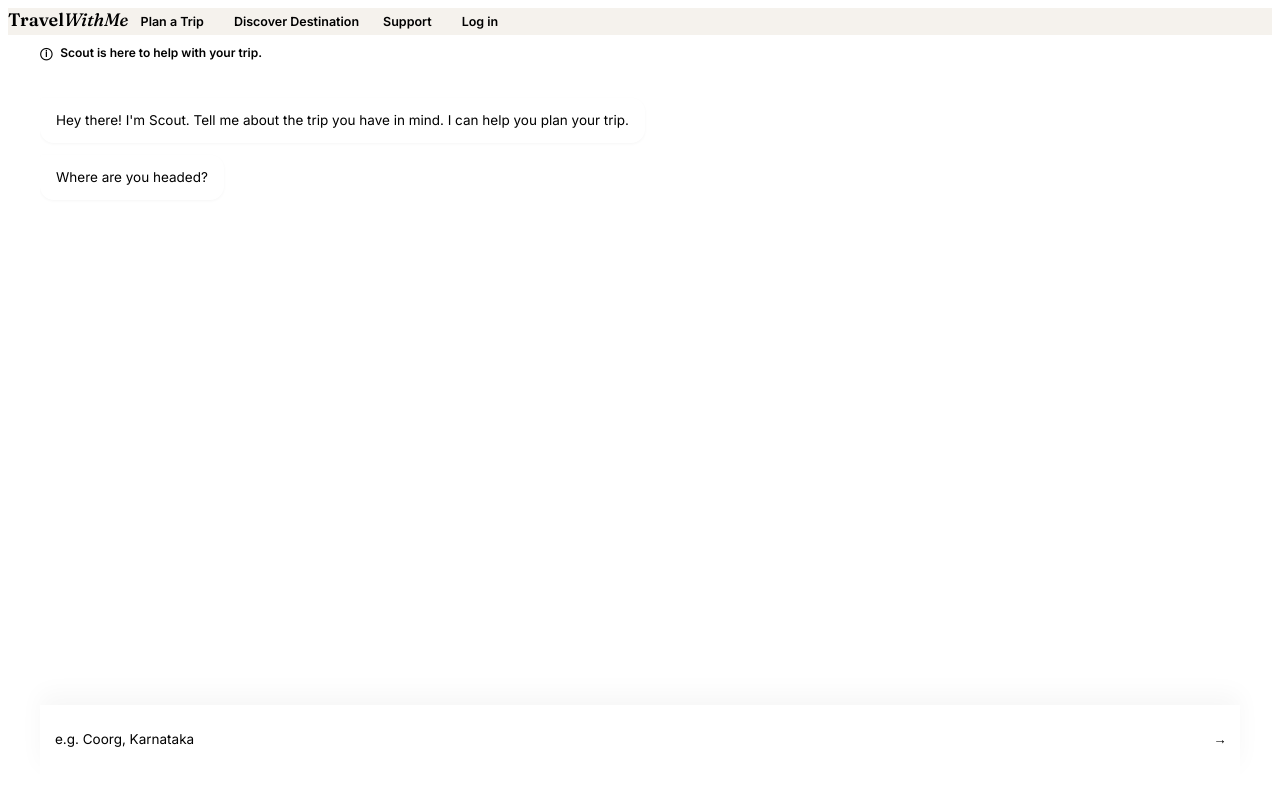
App guest-first routing (TWM-140) › Known Destination entry against real trip commands › sends entry_intent="known_destination" with the raw message and, once Guide generates places and a day plan together, hands off into the unified Dashboard shell
The image size is (1280, 800).
Type "Coorg" into the field with placeholder "e.g. Coorg, Karnataka" at (616, 739), box [40,719,1192,759]
Then press Enter
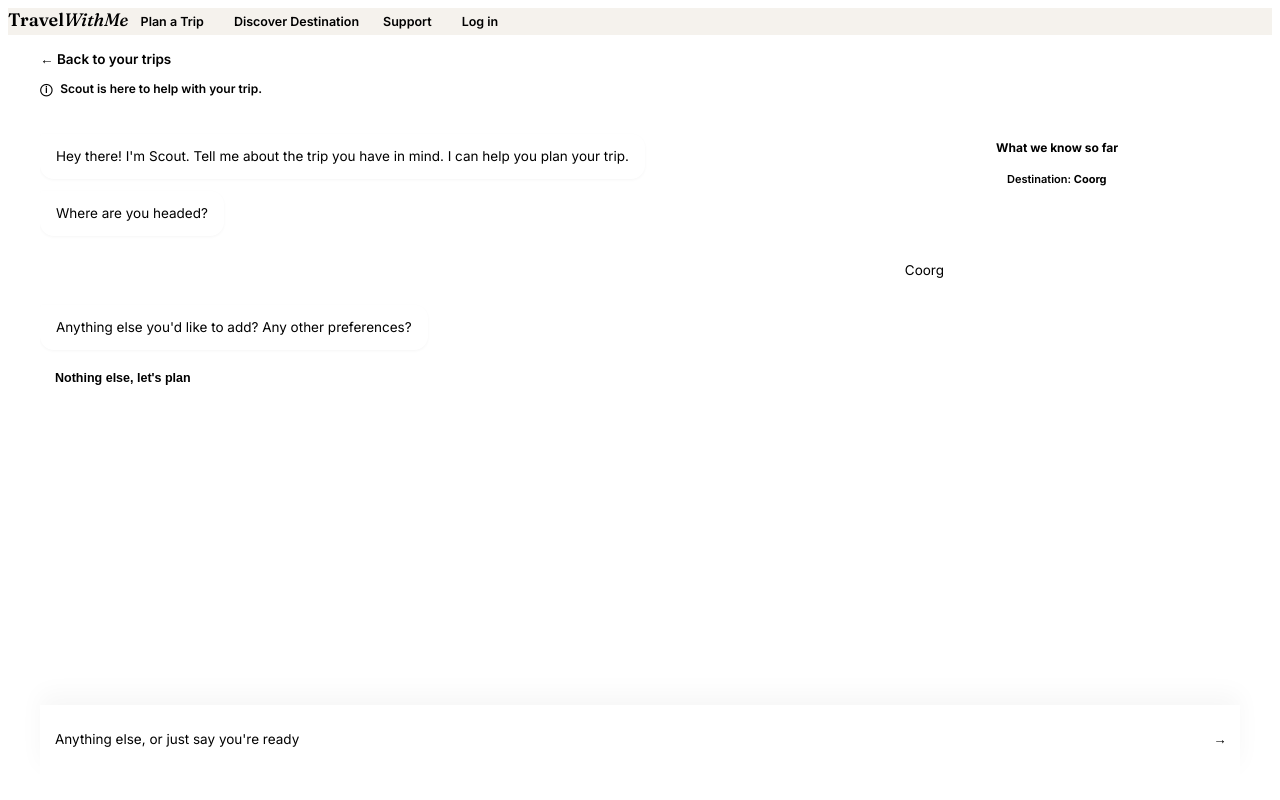
Check: the text "Anything else you'd like to add? Any other preferences?" is shown, box [40,305,428,350]
Check: the 2nd text "Coorg" is shown, box [905,262,944,278]
Type "Nothing else" into the field with placeholder "Anything else, or just say you're ready" at (616, 739), box [40,719,1192,759]
Then press Enter
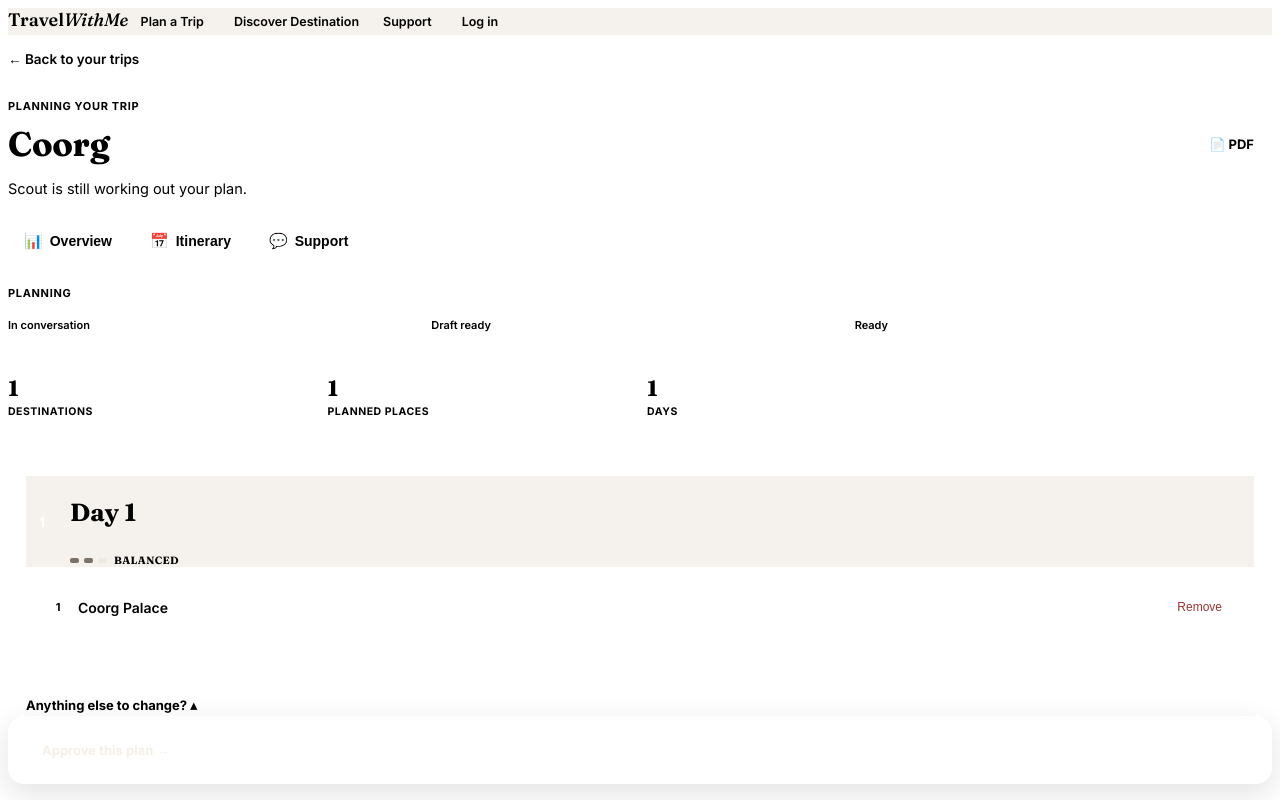
Check: the text "Coorg Palace" is shown, box [78,599,168,616]
Check: the button "Approve this plan →" is shown, box [24,730,187,770]
